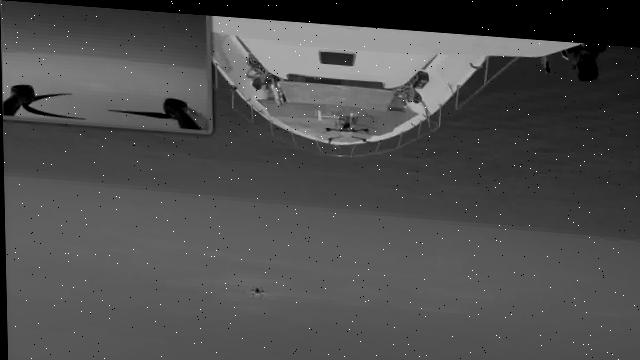drone: (236, 269, 275, 306)
